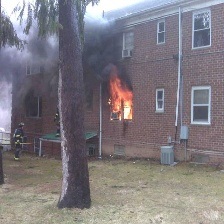fire: (106, 76, 139, 120)
smoke: (1, 15, 129, 85)
